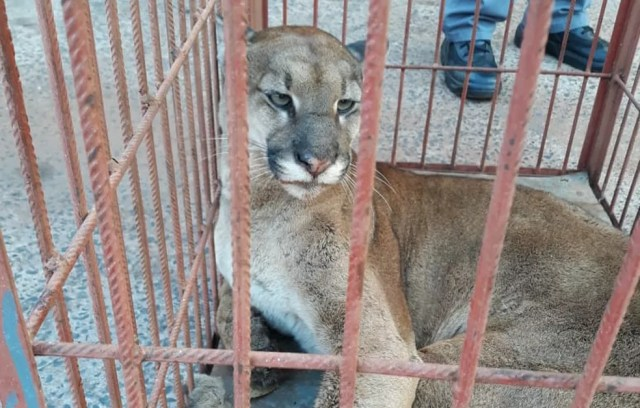OncaParda: (207, 15, 629, 406)
